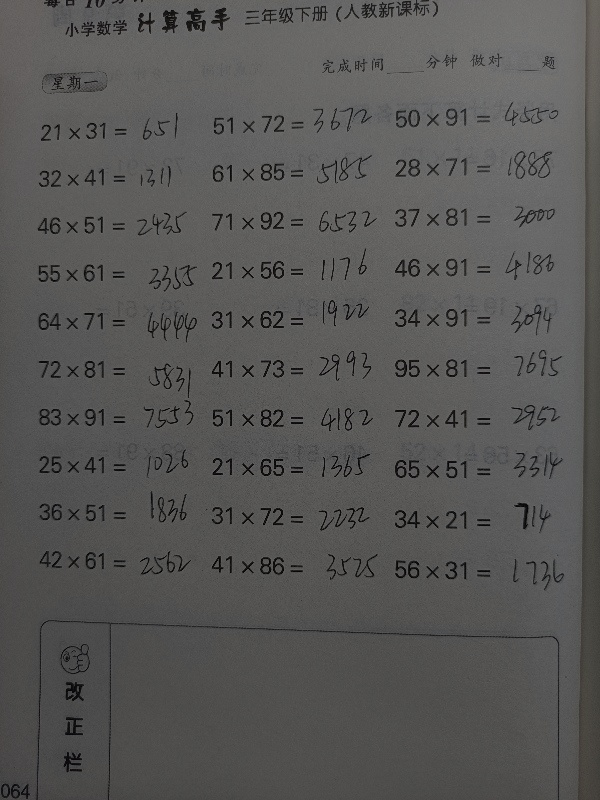equation: (1, 609, 181, 800), (204, 101, 384, 141), (28, 206, 208, 245), (386, 552, 566, 586), (202, 548, 382, 582), (385, 502, 565, 536), (386, 452, 566, 486), (203, 352, 383, 386), (204, 303, 384, 337), (387, 301, 567, 335), (204, 253, 384, 287), (386, 251, 566, 285), (387, 201, 567, 235), (387, 151, 567, 185), (386, 100, 566, 134), (30, 543, 210, 576), (203, 499, 383, 532), (31, 496, 211, 529), (203, 450, 383, 483), (31, 448, 211, 481), (386, 402, 566, 435), (204, 402, 384, 435), (29, 401, 209, 434), (31, 353, 211, 386), (386, 352, 566, 385), (30, 305, 210, 338), (30, 257, 210, 290), (203, 204, 383, 237), (203, 156, 383, 189), (32, 115, 212, 148), (30, 162, 210, 194)
